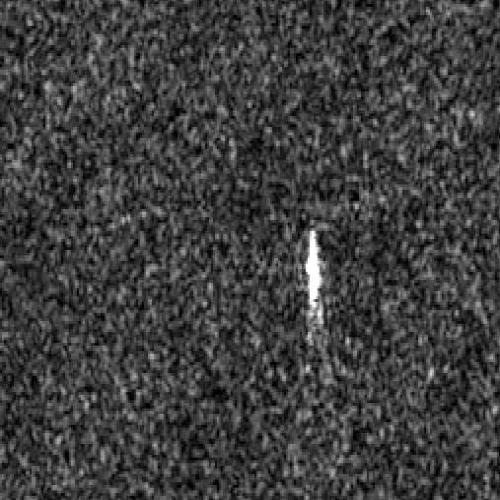ship: (305, 229, 324, 309)
